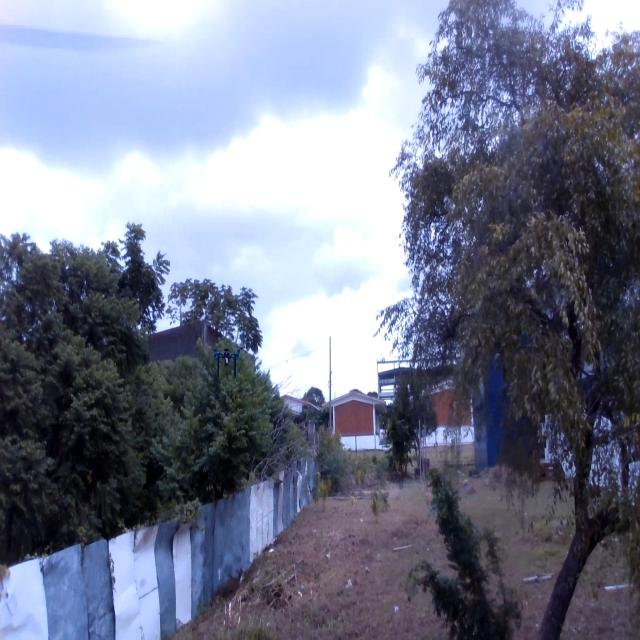-uav-: (204, 337, 251, 382)
